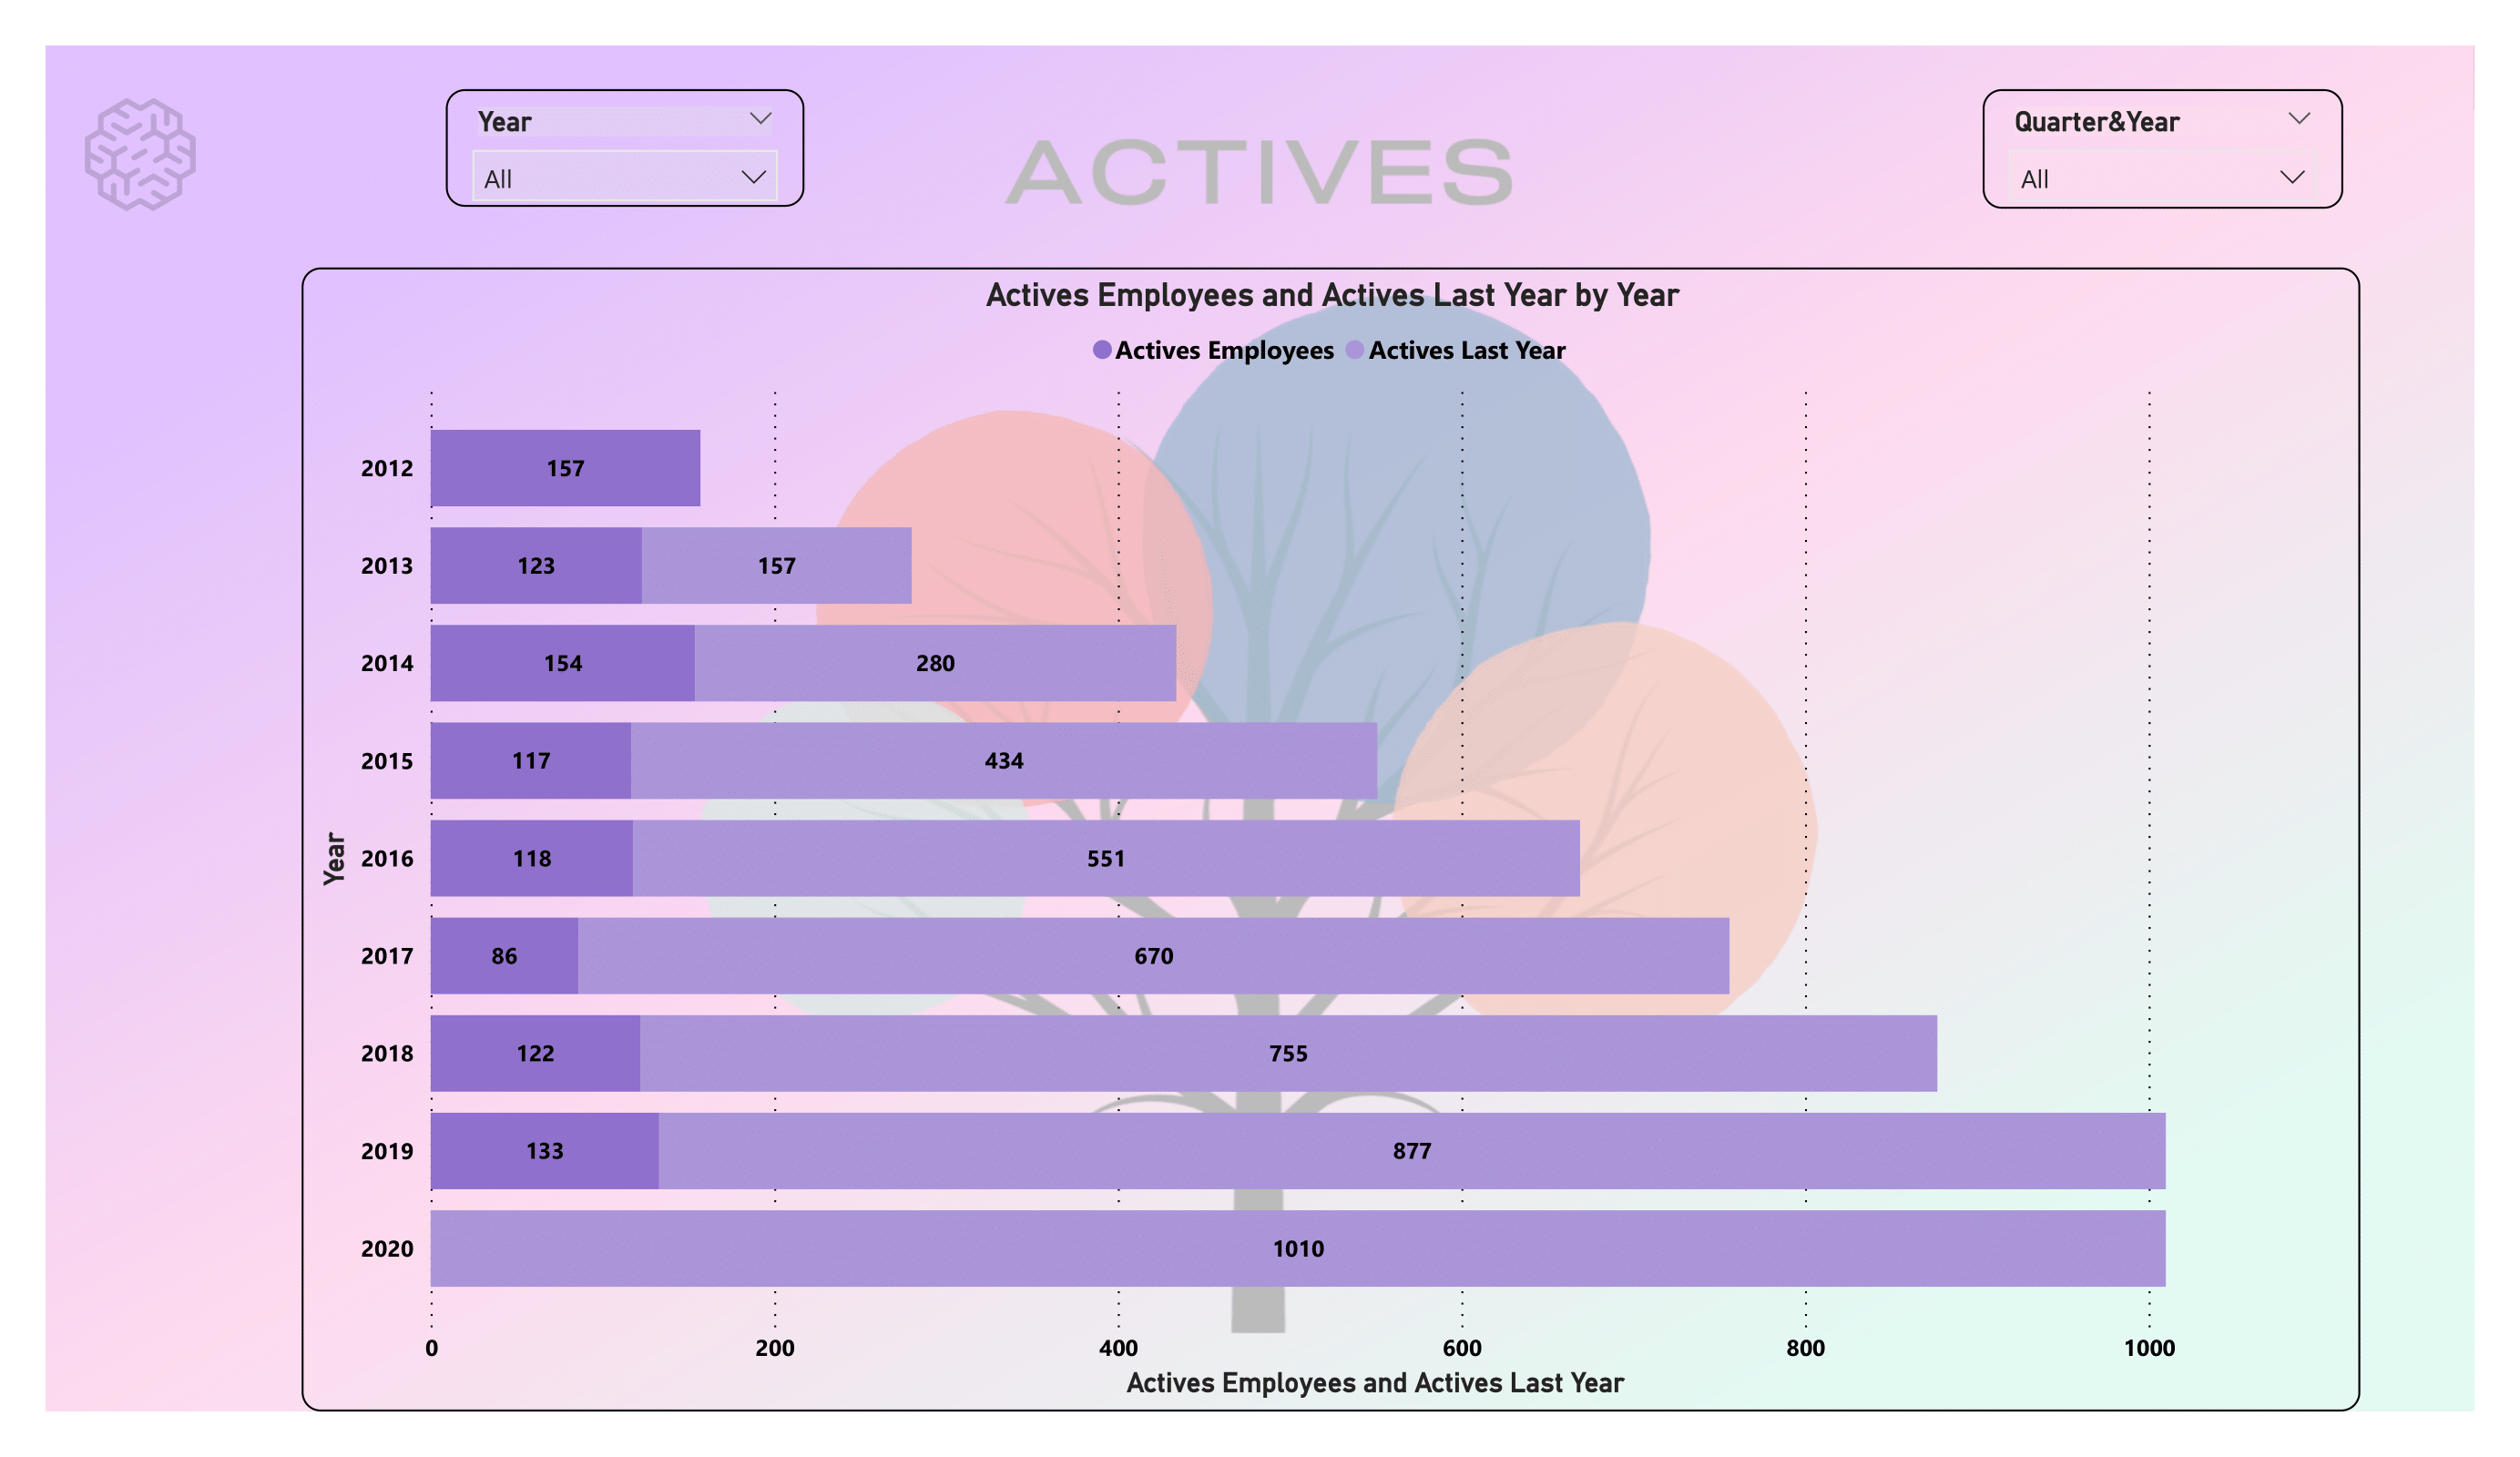

What the dashboard file says about the page in this screenshot:
{"tool":"powerbi","page":{"name":"ACTIVES 2","canvas":[1280,720],"ordinal":5},"visuals":[{"type":"image","box":[15.4,22.7,69,69],"z":0},{"type":"slicer","fields":{"Values":["Calendar.Year"]},"box":[210.8,22.8,189.1,62.7],"z":8000},{"type":"slicer","fields":{"Values":["Calendar.QuarterInCalendar"]},"box":[1020.8,22.7,189.7,62.8],"z":9000},{"type":"barChart","fields":{"Category":["Calendar.Year","Calendar.QuarterInCalendar","Calendar.MonthInCalendar"],"Y":["1.DepartmentKeyMeasures.Actives Employee","2.ActivesKeyMeasures.Actives Last Year"]},"box":[134.8,117.3,1085.5,603],"z":10000}]}

Visuals, with their boxes on the page's 1280x720 design canvas (x1, y1, x2, y2). These are canvas units, not pixel positions in the 2520x1457 screenshot, which may show the page scaled, cropped or inside an application window:
image: select_region(15, 23, 84, 92)
slicer - Calendar.Year: select_region(211, 23, 400, 86)
slicer - Calendar.QuarterInCalendar: select_region(1021, 23, 1210, 86)
barChart - Calendar.Year x Calendar.QuarterInCalendar: select_region(135, 117, 1220, 720)
